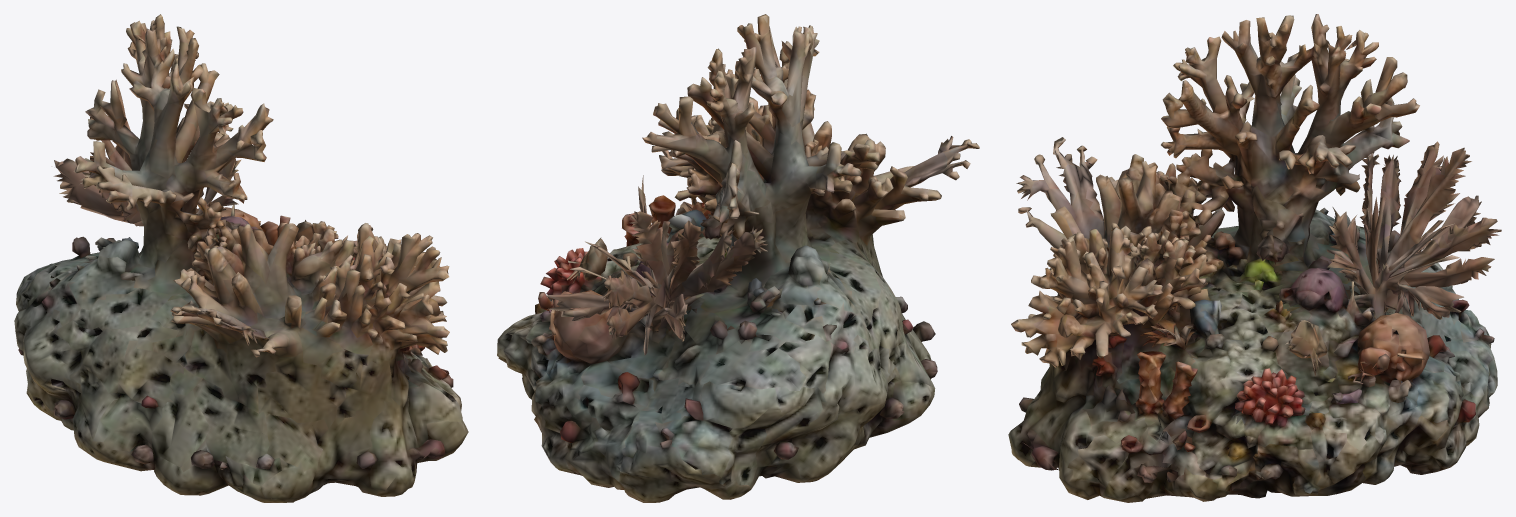
The model's file is coral-colony.glb.
3 views of the same model, side by side, from view 1: azimuth 30°, elevation 25°; view 2: azimuth 150°, elevation 25°; view 3: azimuth 270°, elevation 25° (orthographic). The views are drawn at different scales.
Parts seen in each view (by area): view 1: tripo_node_7975c06a-bf08-4f32-b494-3820de9c8e1f; view 2: tripo_node_7975c06a-bf08-4f32-b494-3820de9c8e1f; view 3: tripo_node_7975c06a-bf08-4f32-b494-3820de9c8e1f.
Boxes of the visible parts, box(x1,y1,x2,y2) form: tripo_node_7975c06a-bf08-4f32-b494-3820de9c8e1f: box(14, 14, 468, 502); tripo_node_7975c06a-bf08-4f32-b494-3820de9c8e1f: box(497, 14, 979, 502); tripo_node_7975c06a-bf08-4f32-b494-3820de9c8e1f: box(1008, 14, 1501, 502).
Bounding box in the file's own units: 0.8319 × 0.9108 × 0.9982.
Materials: 1 (1 with a texture image).
